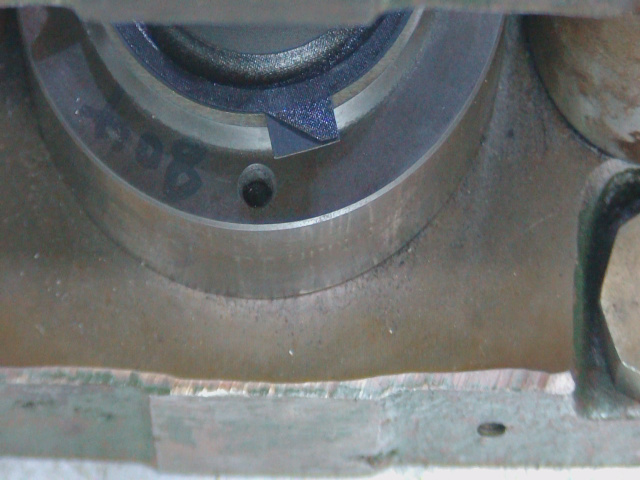HX3: (267, 98, 348, 166)
